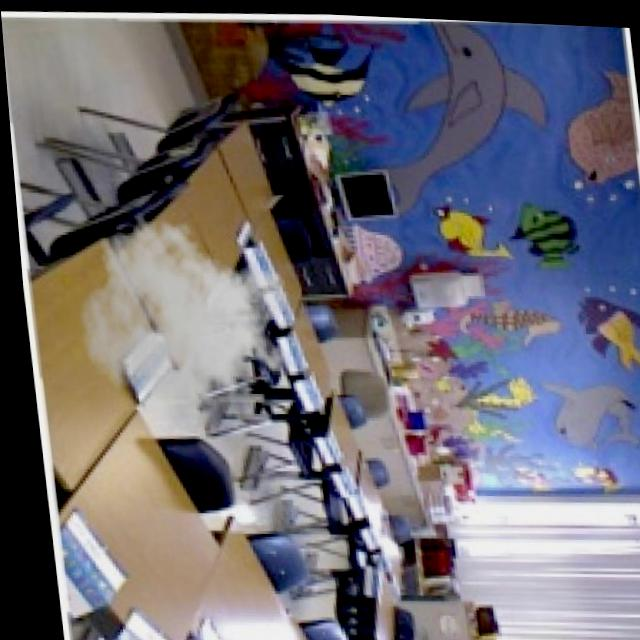Smoke: (60, 211, 297, 431)
